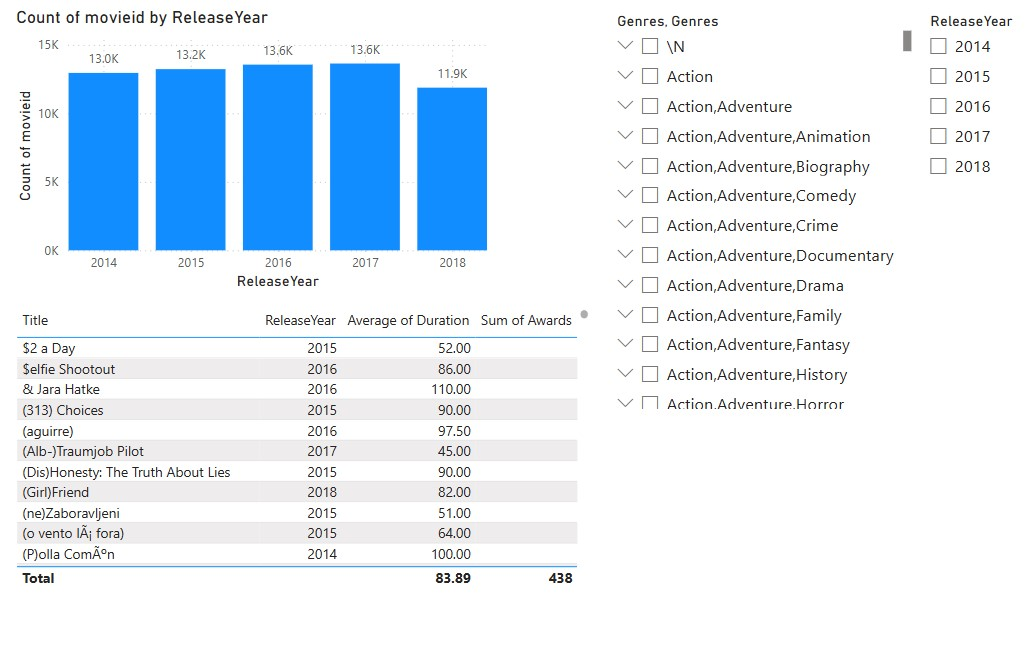

Layout of this report page (visuals, bound fields, positions):
{"tool":"powerbi","page":{"name":"Page 1","canvas":[1280,720],"ordinal":0},"visuals":[{"type":"columnChart","fields":{"Category":["movies (2).ReleaseYear"],"Y":["CountNonNull(movies (2).movieid)"]},"box":[21.4,51.9,468,279.7],"z":0},{"type":"tableEx","fields":{"Values":["movies (2).Title","movies (2).ReleaseYear","Avg(movies (2).Duration)","Sum(movies (2).Awards)"]},"box":[21.4,340.6,567.3,279.7],"z":1000},{"type":"slicer","fields":{"Values":["movies (2).Genres","genres.Genres"]},"box":[597.7,51.9,304.5,395.8],"z":2000},{"type":"slicer","fields":{"Values":["movies (2).ReleaseYear"]},"box":[902.2,51.9,304.5,395.8],"z":3000}]}

Visuals, with their boxes on the page's 1280x720 design canvas (x1, y1, x2, y2). These are canvas units, not pixel positions in the 1033x663 screenshot, which may show the page scaled, cropped or inside an application window:
columnChart - movies (2).ReleaseYear x CountNonNull(movies (2).movieid): 21/52/489/332
tableEx - movies (2).Title x movies (2).ReleaseYear: 21/341/589/620
slicer - movies (2).Genres x genres.Genres: 598/52/902/448
slicer - movies (2).ReleaseYear: 902/52/1207/448
